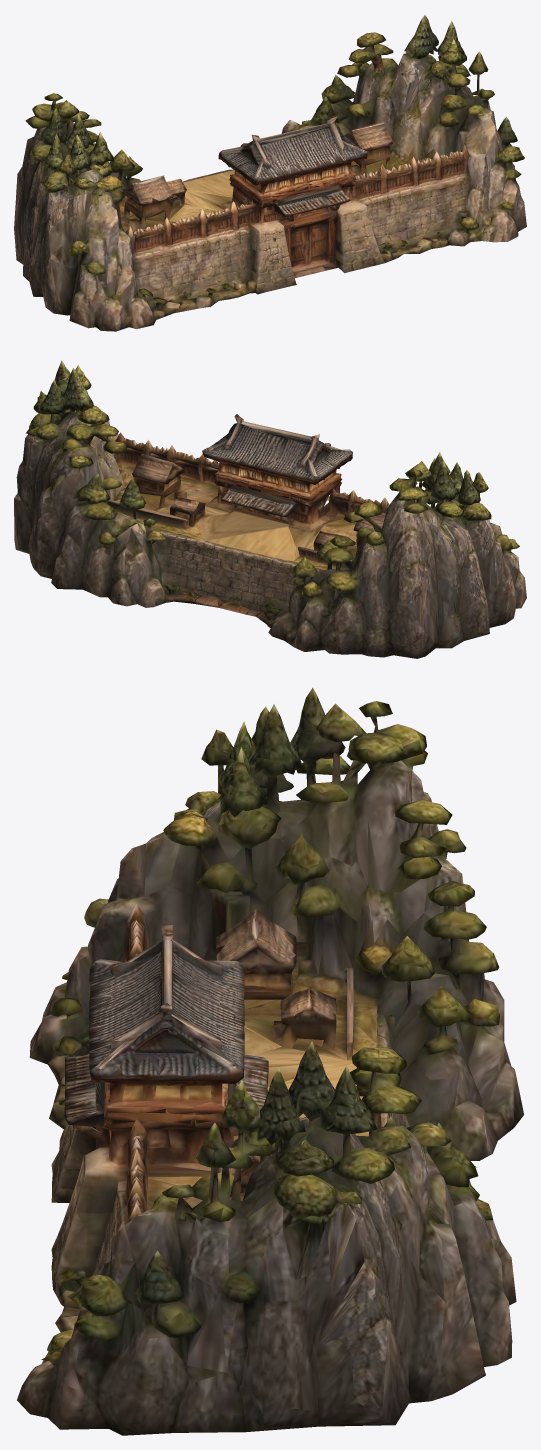
File: pass-japan.glb
The picture shows the model from 3 angles, top to bottom: view 1: azimuth 30°, elevation 25°; view 2: azimuth 150°, elevation 25°; view 3: azimuth 270°, elevation 25°; orthographic projection. The views are drawn at different scales.
Visible parts, largest first — view 1: tripo_node_4ef85c1e-00d9-43d7-8d59-321b8f1ea282; view 2: tripo_node_4ef85c1e-00d9-43d7-8d59-321b8f1ea282; view 3: tripo_node_4ef85c1e-00d9-43d7-8d59-321b8f1ea282.
Boxes of the visible parts, bbox=[...] form: tripo_node_4ef85c1e-00d9-43d7-8d59-321b8f1ea282: bbox=[14, 15, 526, 331]; tripo_node_4ef85c1e-00d9-43d7-8d59-321b8f1ea282: bbox=[14, 360, 526, 658]; tripo_node_4ef85c1e-00d9-43d7-8d59-321b8f1ea282: bbox=[17, 687, 523, 1435].
Bounding box in the file's own units: 0.85 × 0.308 × 0.4052.
Materials: 1 (1 with a texture image).
